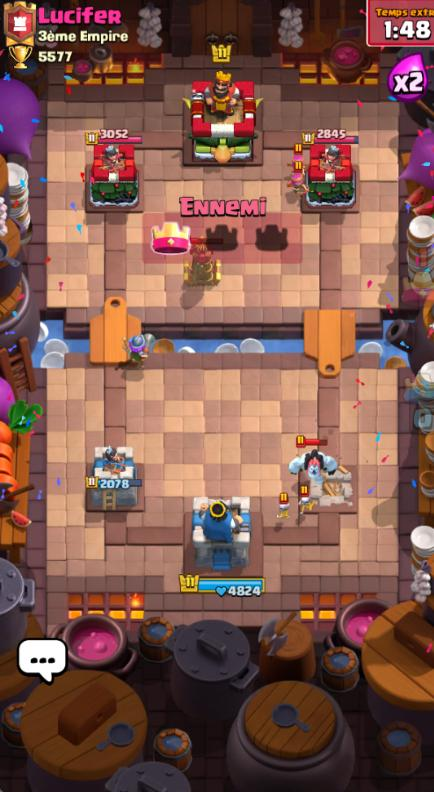mousquetaire: (118, 330, 157, 363)
squelette: (298, 494, 317, 515), (275, 498, 289, 521)
